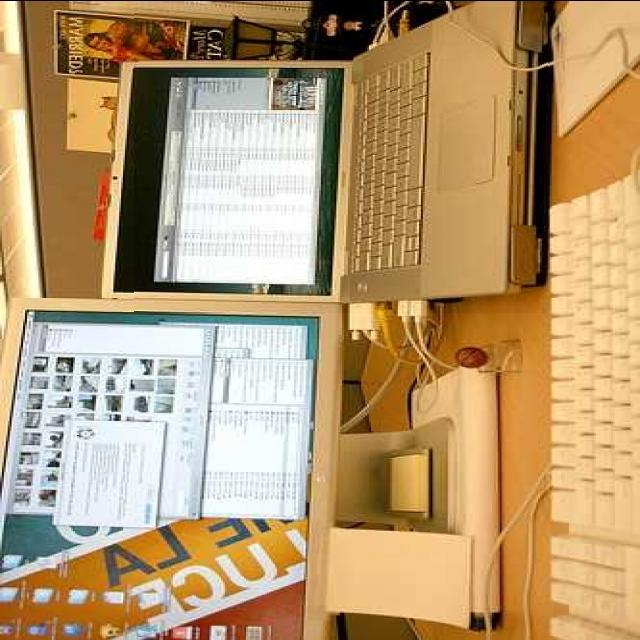-keyboard-: (134, 8, 548, 314)
